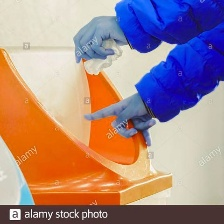tissue: (78, 33, 126, 77)
